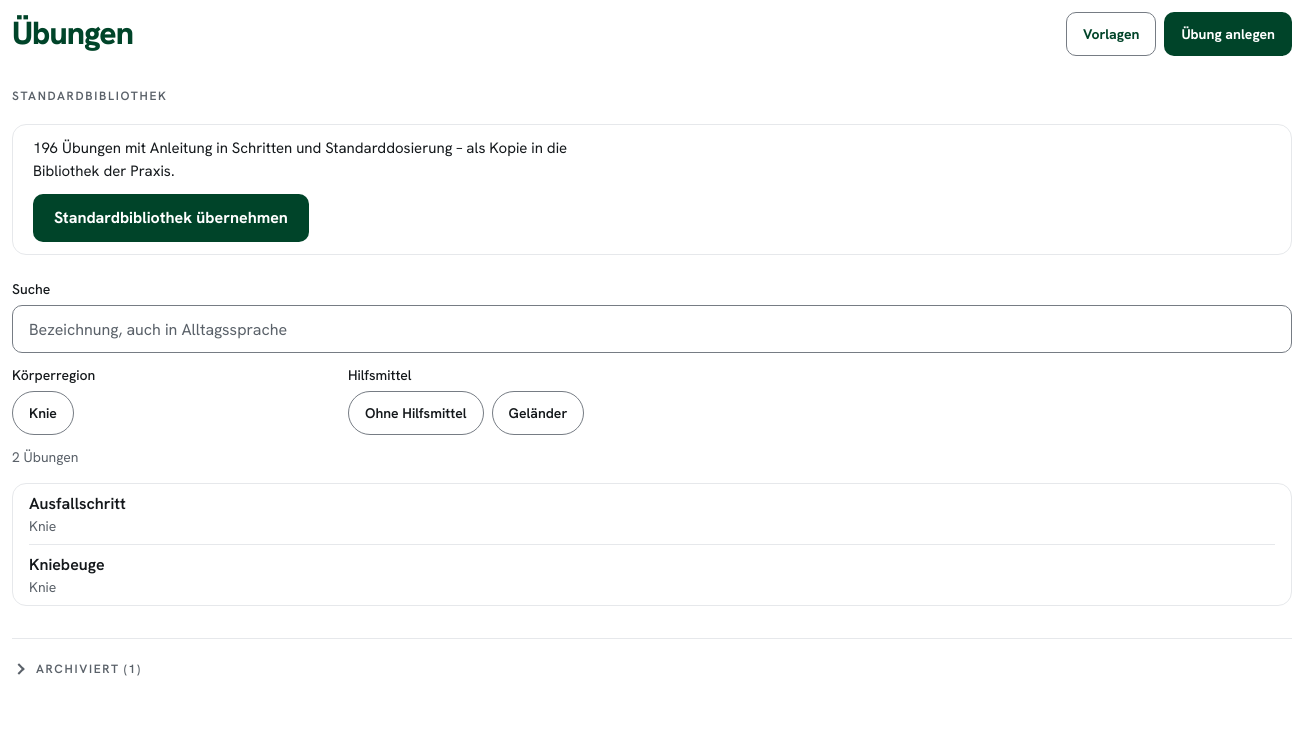
Test: UebungenPage (UEB-001, Welle B: Liste) › bietet owner die Standardbibliothek prominent an und meldet, was übernommen wurde (ANN-385, ANN-388)
The width and height of the screenshot is (1304, 732).
Expected: the heading "Standardbibliothek" is shown, 12,88 -> 168,104
Click the button "Standardbibliothek übernehmen" at (171, 218), box 33,194 -> 309,242
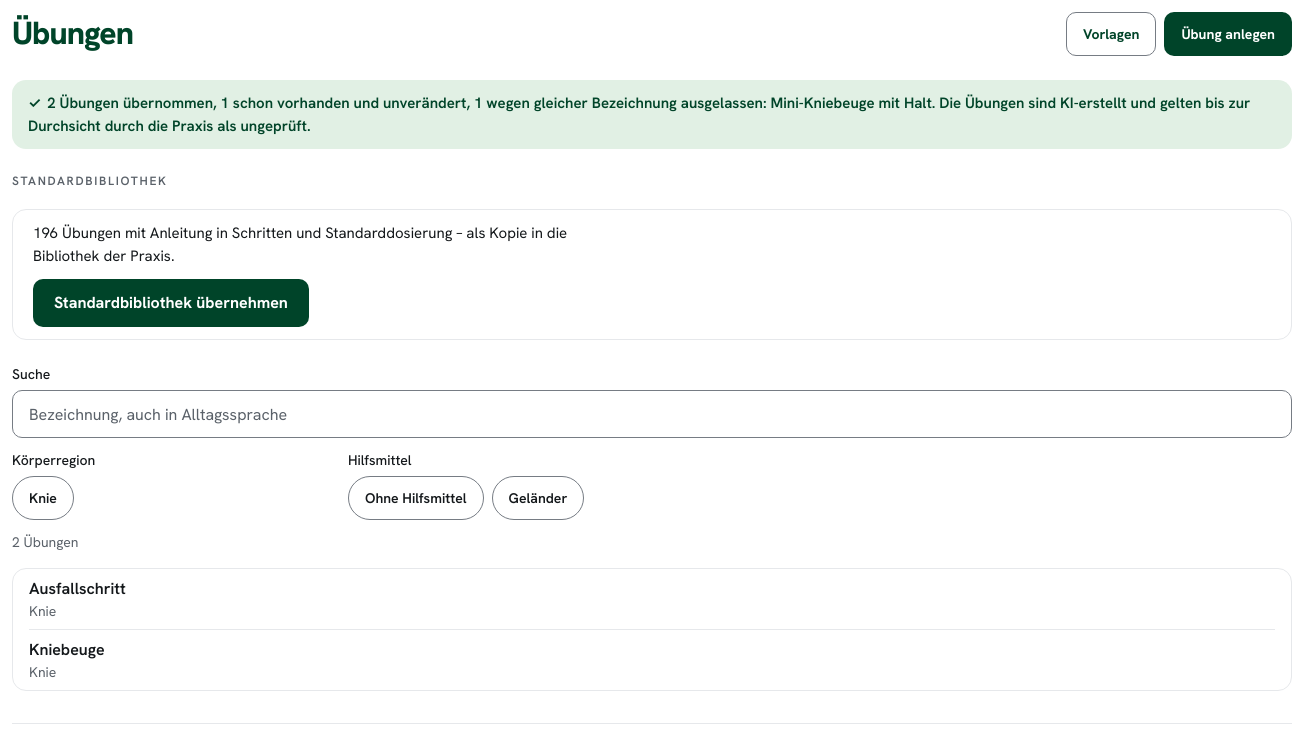
Expected: the text "2 Übungen übernommen, 1 schon vorhanden und unverändert" shows "ausgelassen: Mini-Kniebeuge mit Halt", 28,93 -> 1250,136
Expected: the text "2 Übungen übernommen, 1 schon vorhanden und unverändert" shows "Die Übungen sind KI-erstellt und gelten bis zur Durchsicht durch die Praxis als ungeprüft.", 28,93 -> 1250,136
